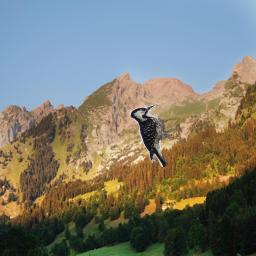Woodpecker: (129, 104, 180, 167)
